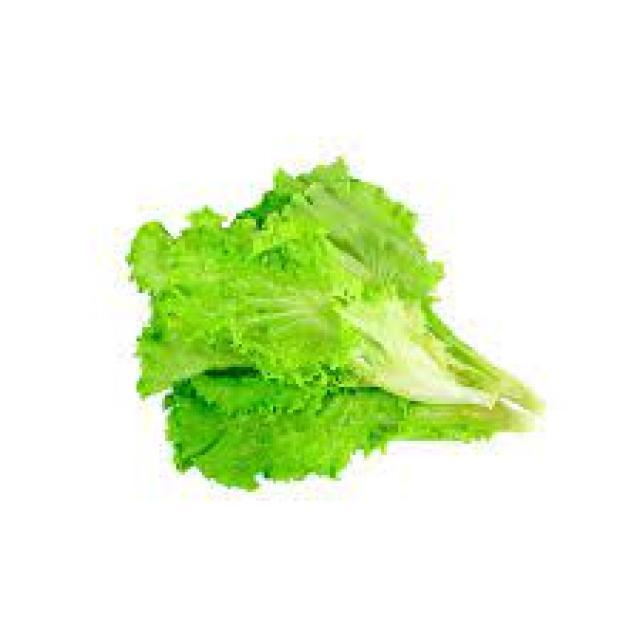Lettuce: (125, 153, 545, 487)
